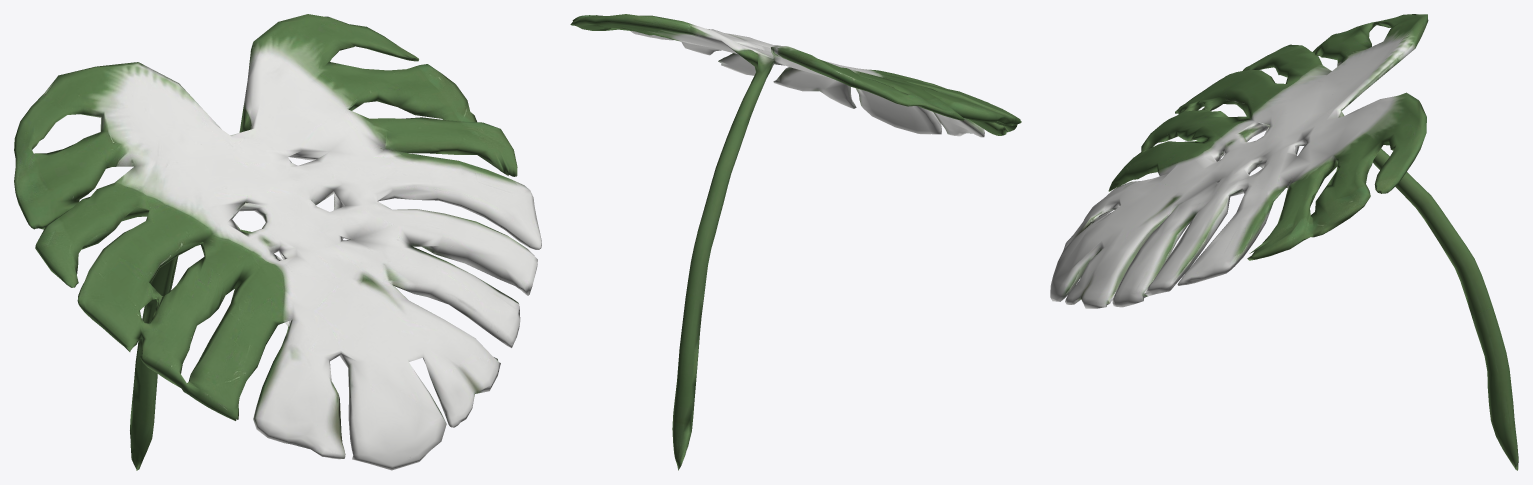
The model's file is mon_halfmoon_greencream_v2.glb.
3 renders of one model, left to right at view 1: azimuth 30°, elevation 25°; view 2: azimuth 150°, elevation 25°; view 3: azimuth 270°, elevation 25°, orthographic. The views are drawn at different scales.
Bounding box in the file's own units: 1.99 × 1.91 × 2.
1 material, 1 textured.
